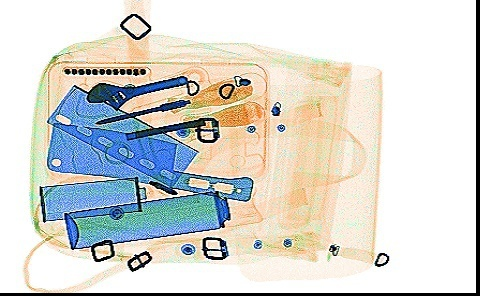knife: (45, 121, 254, 202)
pressure: (61, 189, 263, 250)
zippooil: (38, 175, 147, 223)
